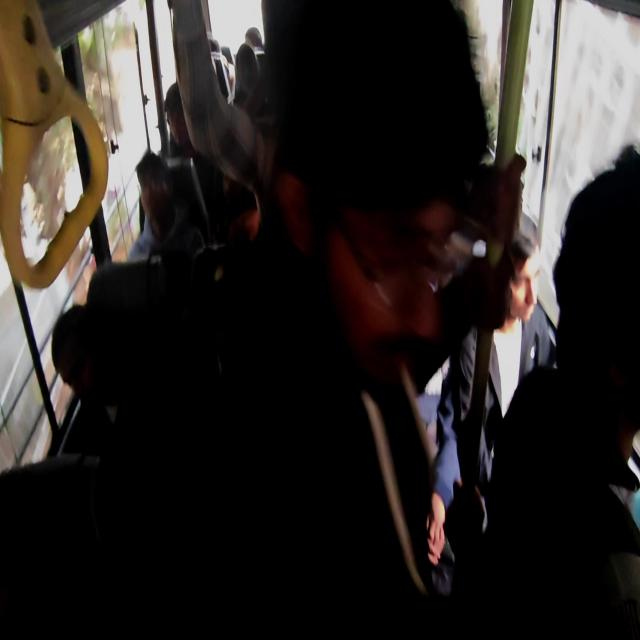person: (1, 252, 260, 626), (328, 192, 462, 384), (554, 149, 637, 396), (211, 32, 279, 235), (126, 149, 202, 260), (504, 208, 545, 329), (48, 388, 98, 459), (470, 159, 510, 223), (162, 82, 194, 157), (206, 36, 236, 106), (60, 349, 89, 391), (612, 142, 640, 176), (244, 26, 264, 53), (137, 188, 146, 237), (207, 36, 220, 56)
